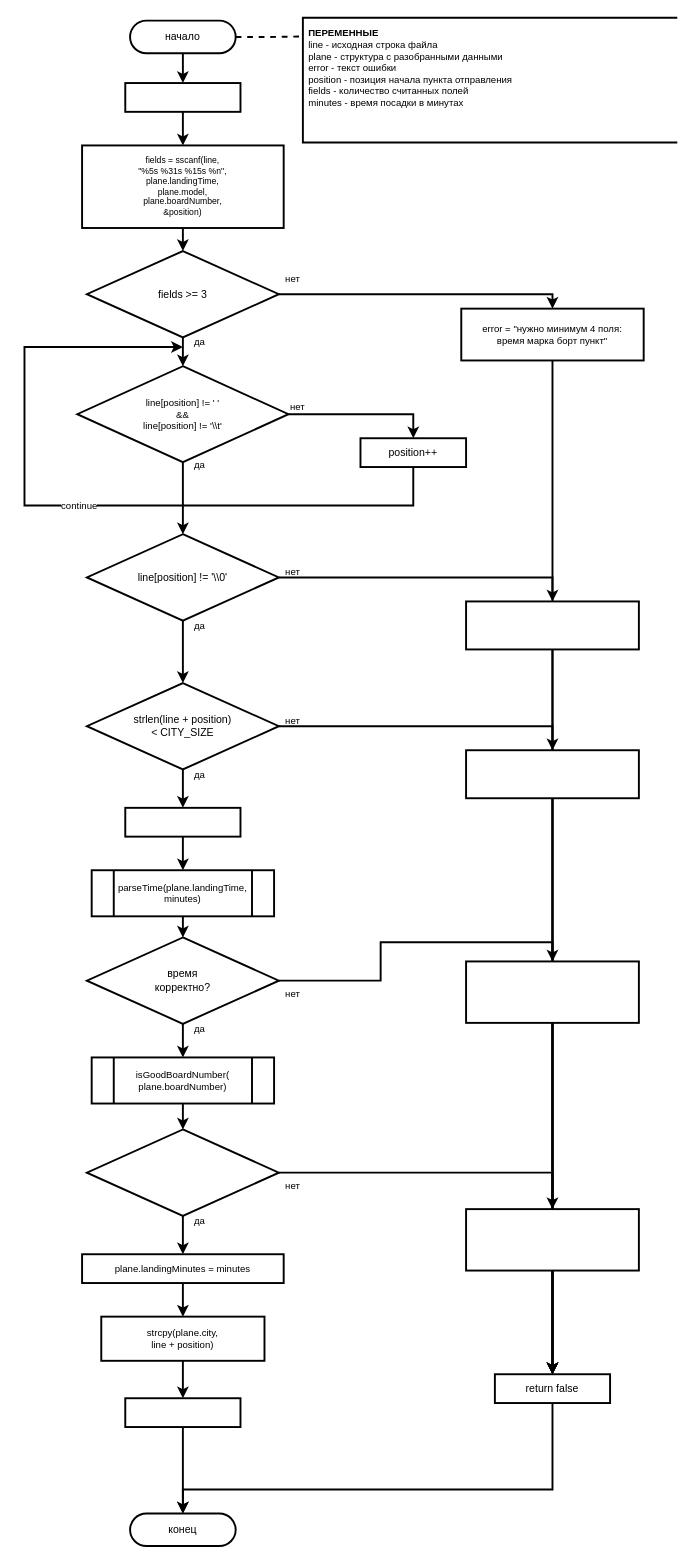
Some shapes in this 694 by 1563 pixel diagram are drawn without their labels. The centre of each missing label's shape, as x and y in pixels:
error = "бортовой номер должен быть в формате Б-хххх": (552,1239)
error = "время должно быть в формате HH:MM от 00:00 до 23:59": (552,991)
error = "отсутствует пункт отправления": (552,625)
error = "пункт отправления слишком длинный": (552,774)
minutes = 0: (182,821)
position = 0: (182,97)
return true: (182,1412)
бортовой номер корректен?: (182,1172)
